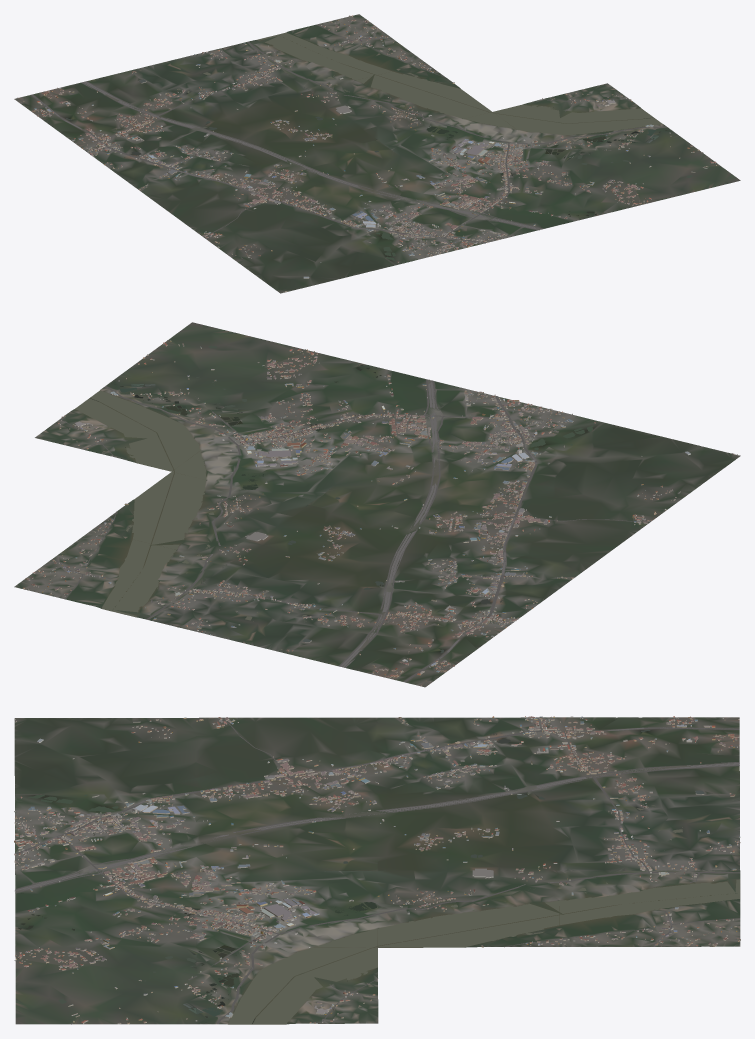
3 renders of one model, top to bottom at view 1: azimuth 30°, elevation 25°; view 2: azimuth 150°, elevation 25°; view 3: azimuth 270°, elevation 25°, orthographic. The views are drawn at different scales.
Parts seen in each view (by area): view 1: ground, buildings, water, roads; view 2: ground, buildings, water, roads; view 3: ground, buildings, water, roads.
Boxes of the visible parts, x1,y1,x2,y2 form: ground: (14,14,740,293); buildings: (17,15,716,292); water: (66,32,692,260); roads: (31,24,720,243); ground: (14,322,740,687); buildings: (22,340,737,686); water: (75,345,593,653); roads: (51,340,650,682); ground: (14,717,740,1024); buildings: (14,716,740,1024); water: (18,729,739,1024); roads: (14,717,740,1024).
Bounding box in the file's own units: 5628 × 33.67 × 5622.
